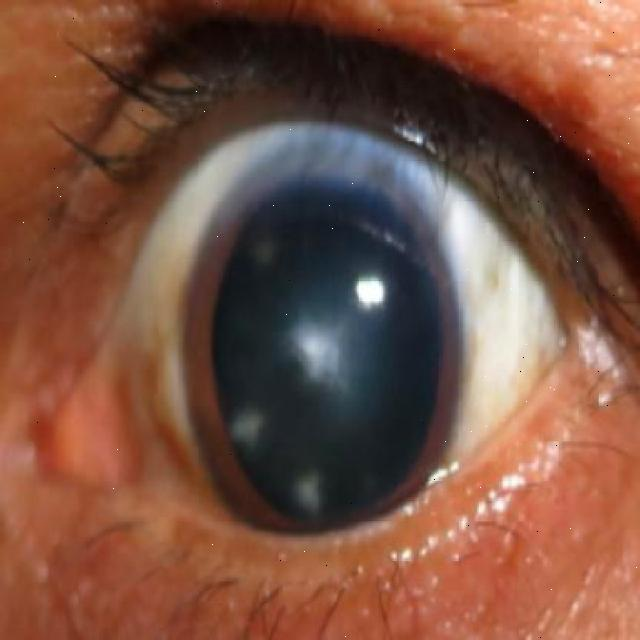Cataract: (182, 135, 472, 566)
